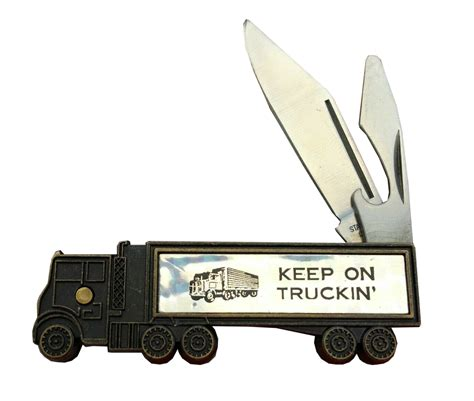knife: (245, 16, 384, 250), (350, 55, 414, 252)
